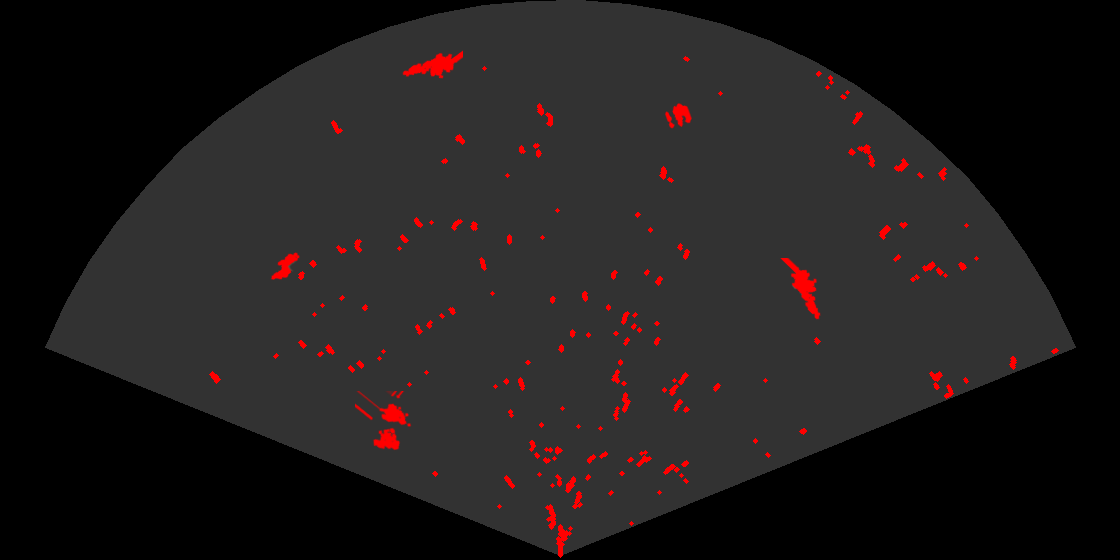AUV: (269, 251, 301, 281)
ball: (663, 102, 693, 130)
cage: (355, 391, 413, 452)
frogman: (779, 258, 822, 321), (401, 49, 463, 80)
